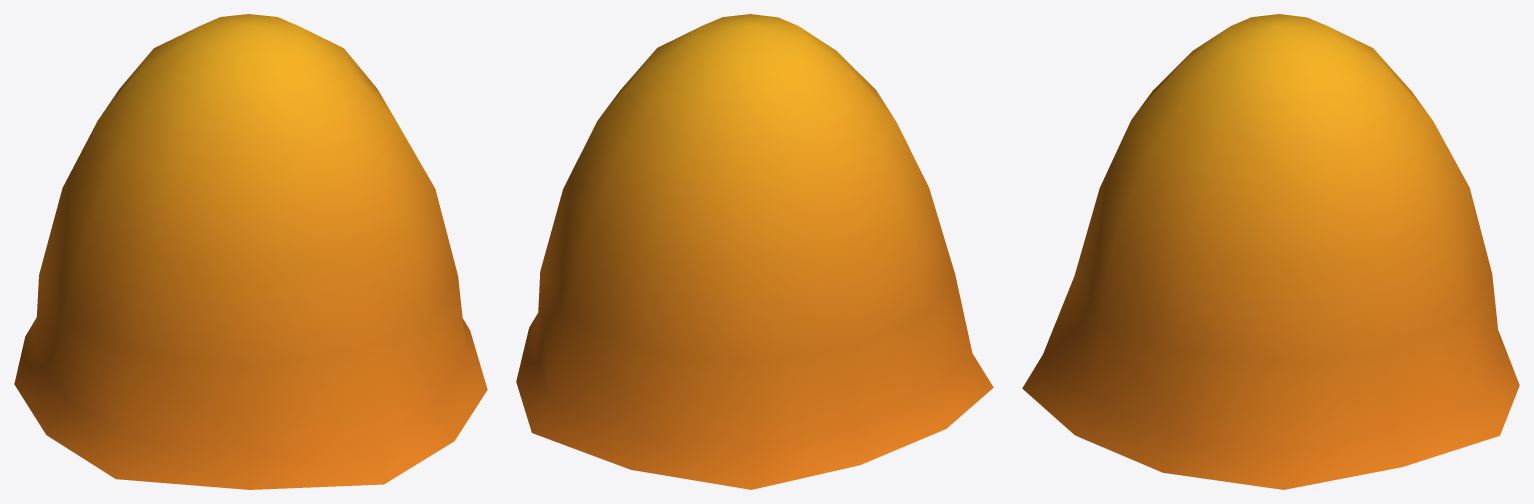
Rendered from Hay_Pile.obj.
3 renders of one model, left to right at view 1: azimuth 30°, elevation 25°; view 2: azimuth 150°, elevation 25°; view 3: azimuth 270°, elevation 25°, orthographic. The views are drawn at different scales.
Visible parts, largest first — view 1: {mesh}Hay_Pile_Sphere.009; view 2: {mesh}Hay_Pile_Sphere.009; view 3: {mesh}Hay_Pile_Sphere.009.
Part boxes in pixels (x1=…): {mesh}Hay_Pile_Sphere.009: x1=14, y1=14, x2=487, y2=489; {mesh}Hay_Pile_Sphere.009: x1=516, y1=14, x2=993, y2=489; {mesh}Hay_Pile_Sphere.009: x1=1022, y1=14, x2=1519, y2=489.
Size of the model in its own units: 84.29 by 69.13 by 86.6.
1 material, 1 textured.
